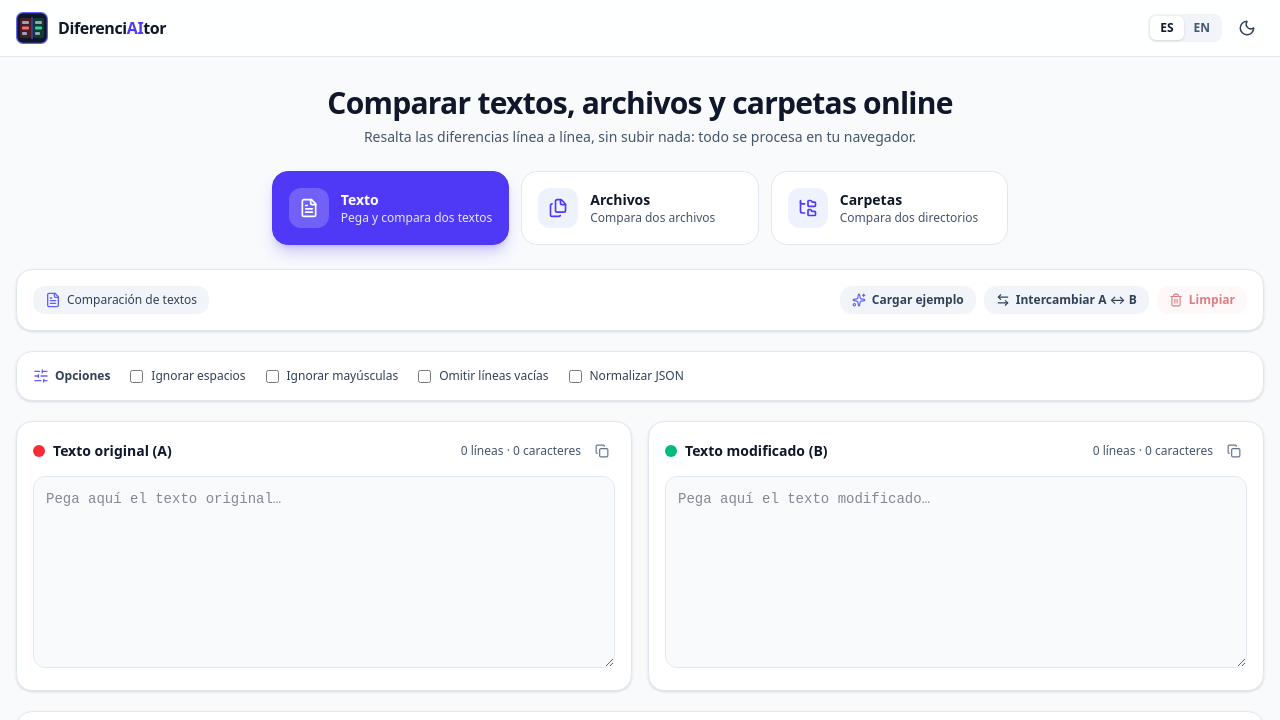
Test case: App › cambia de idioma y lo recuerda
The width and height of the screenshot is (1280, 720).
Click the button with aria-label "English".
click(1202, 28)  # box [1184,16,1220,40]
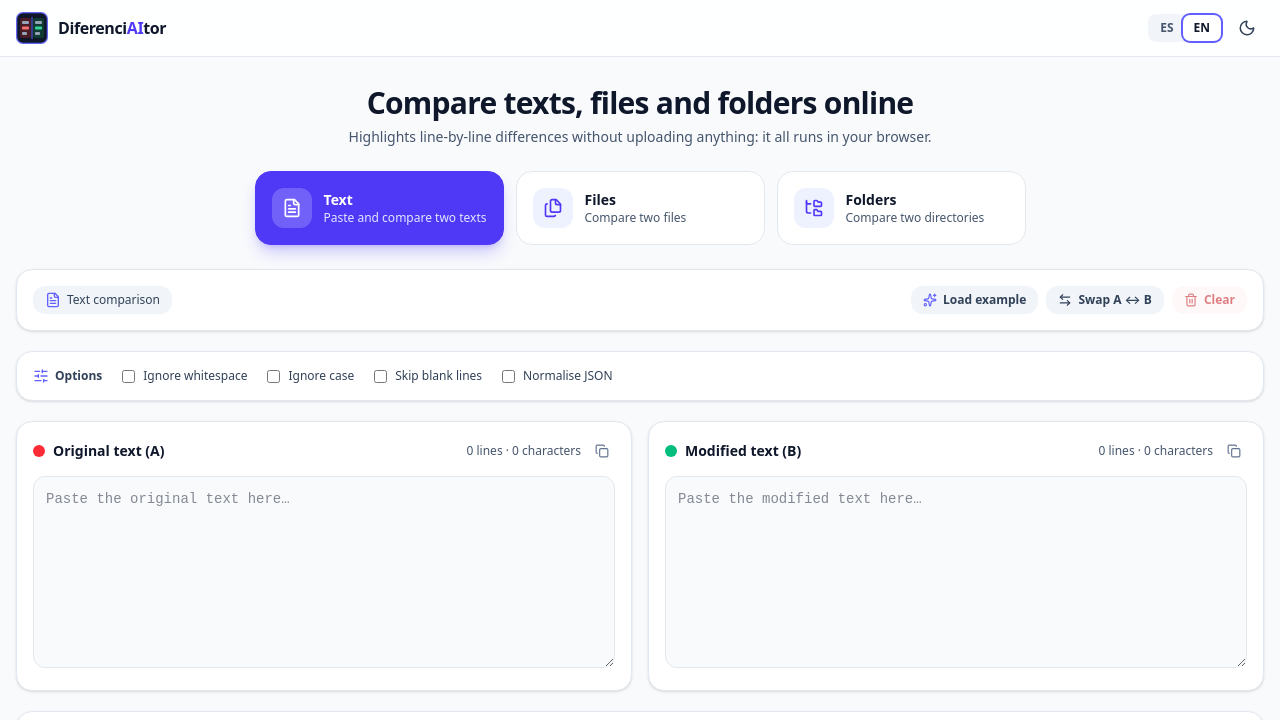
Expected: the button "Load example" is shown, [911,286,1038,314]
